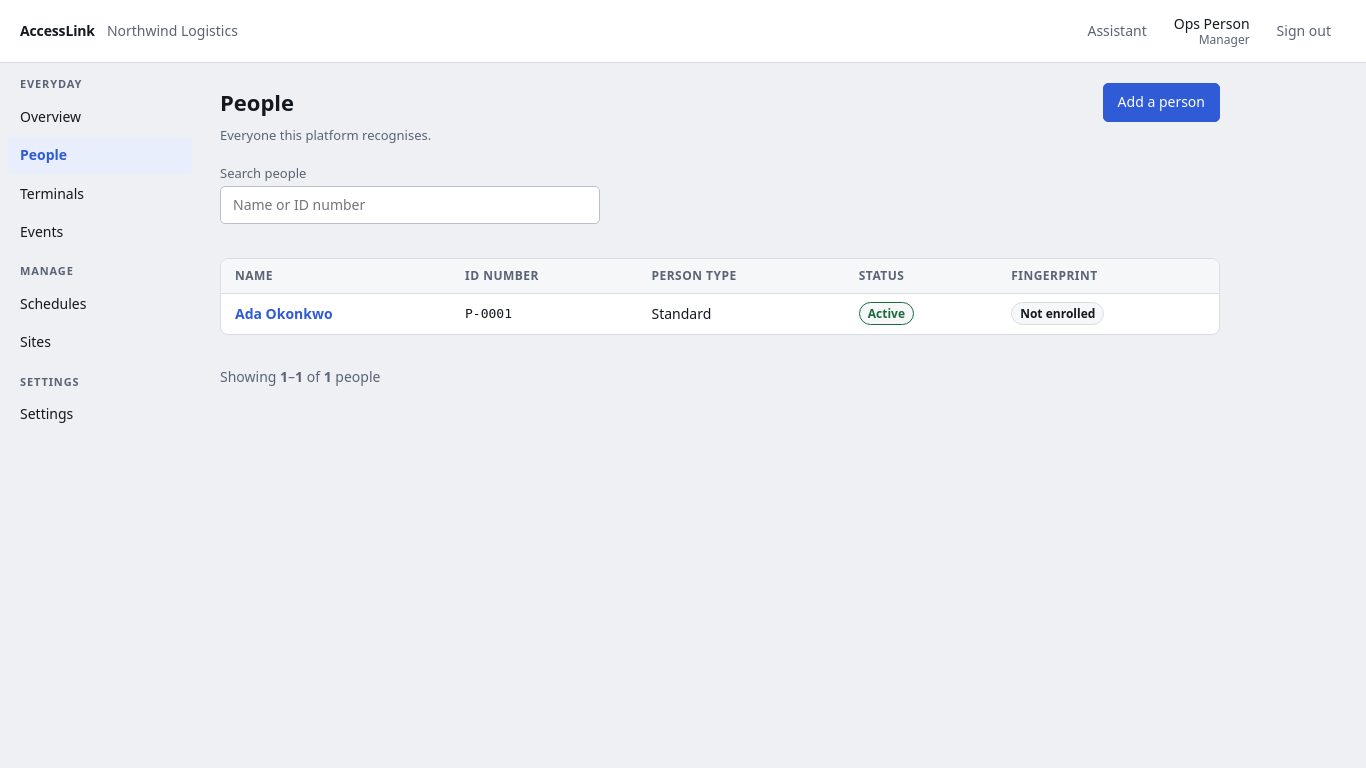
Test: a turn › refreshes the people list after the assistant adds somebody
Expected: the link "Ada Okonkwo" is shown, [235,302,333,326]
Click the button "Assistant" at [1117, 31], box [1072,12,1162,50]
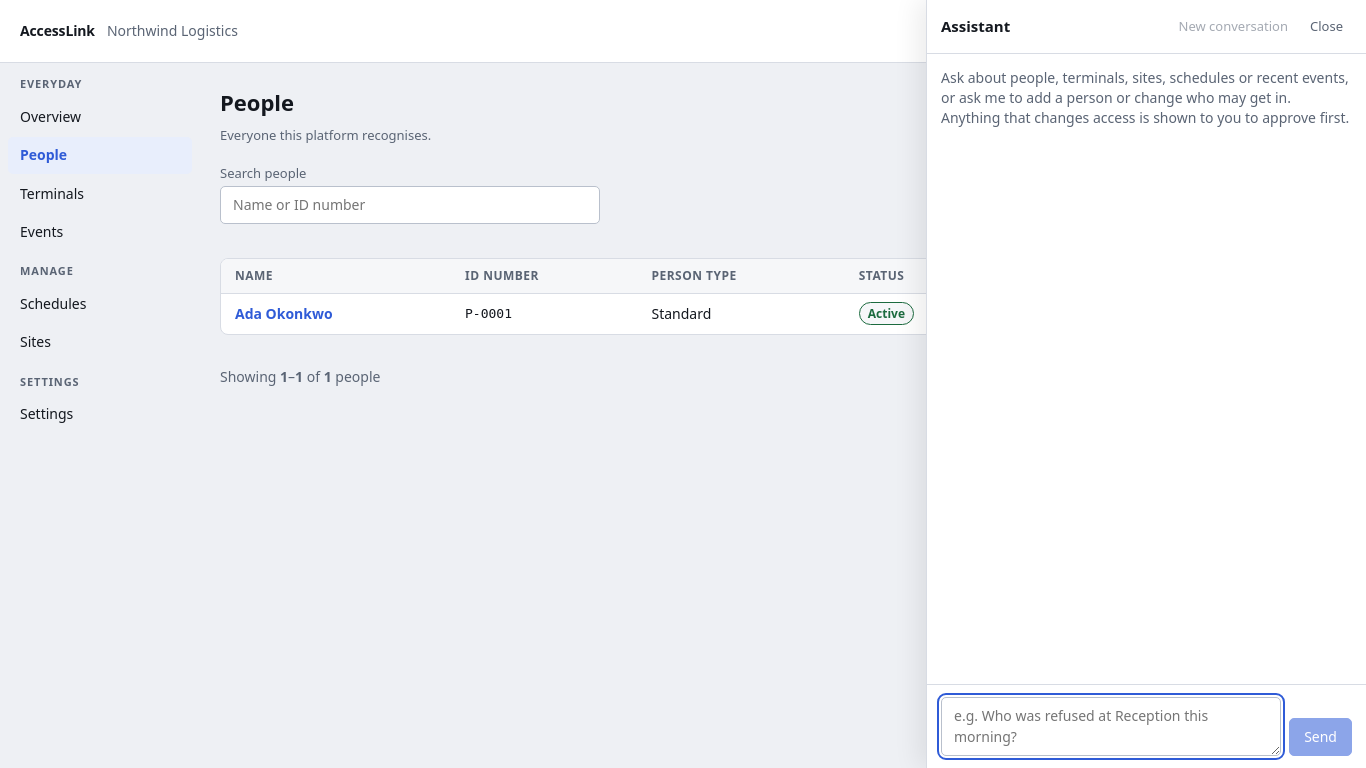
Type "add New Person" into the text box named "Message the assistant" at [1111, 727], box [941,697,1281,756]
Then press Enter
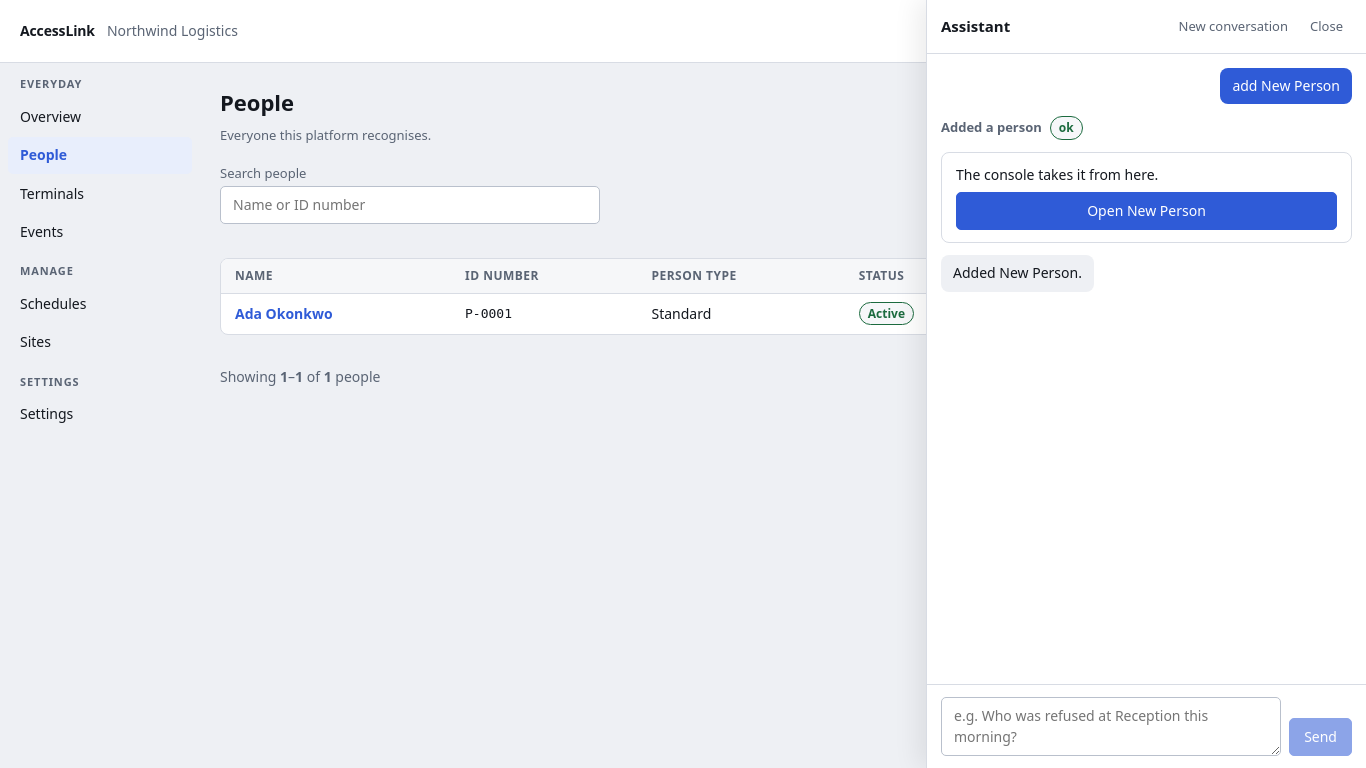
Expected: the text "Added New Person." is shown, [941,255,1094,292]
